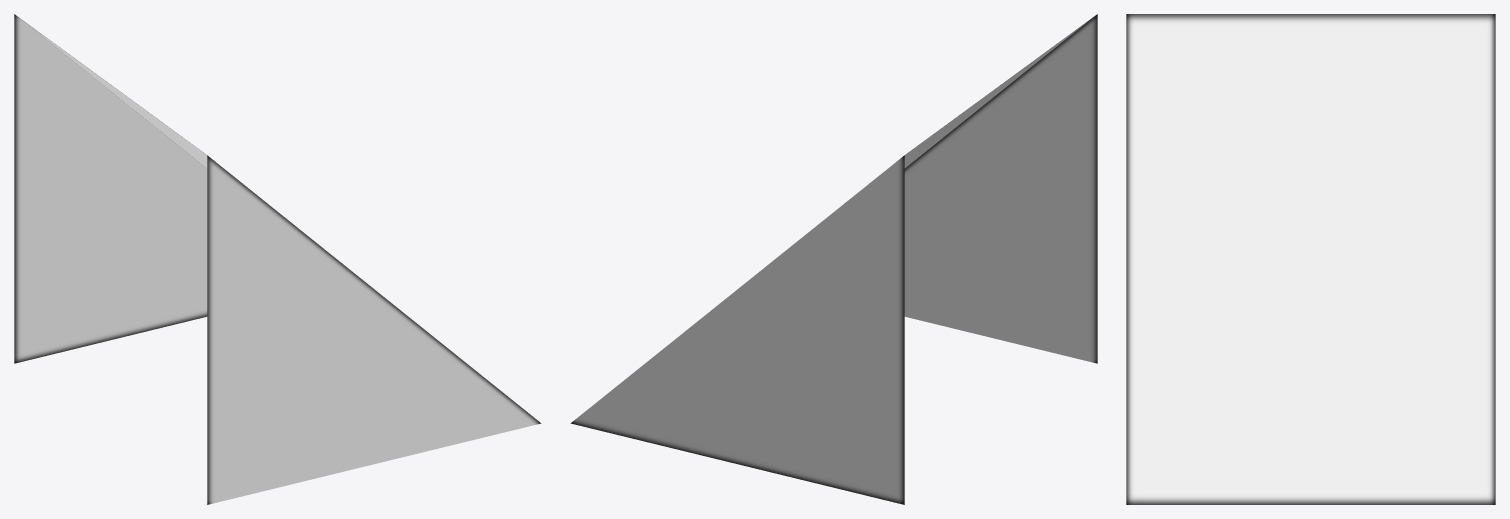
File: slope_outside_2-side.fbx
3 views of the same model, side by side, from view 1: azimuth 30°, elevation 25°; view 2: azimuth 150°, elevation 25°; view 3: azimuth 270°, elevation 25° (orthographic). The views are drawn at different scales.
Parts seen in each view (by area): view 1: slope_outside_2-side; view 2: slope_outside_2-side; view 3: slope_outside_2-side.
Part boxes in pixels (x1,y1,x2,y2): slope_outside_2-side: (14, 14, 541, 504); slope_outside_2-side: (570, 14, 1097, 504); slope_outside_2-side: (1126, 14, 1495, 504).
Size of the model in its own units: 100 by 100 by 100.
